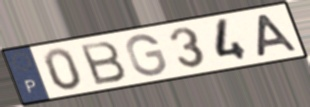0: (43, 46, 85, 93)
3: (168, 26, 208, 70)
4: (213, 17, 253, 65)
A: (255, 12, 301, 59)
B: (77, 38, 129, 86)
G: (125, 33, 169, 78)
